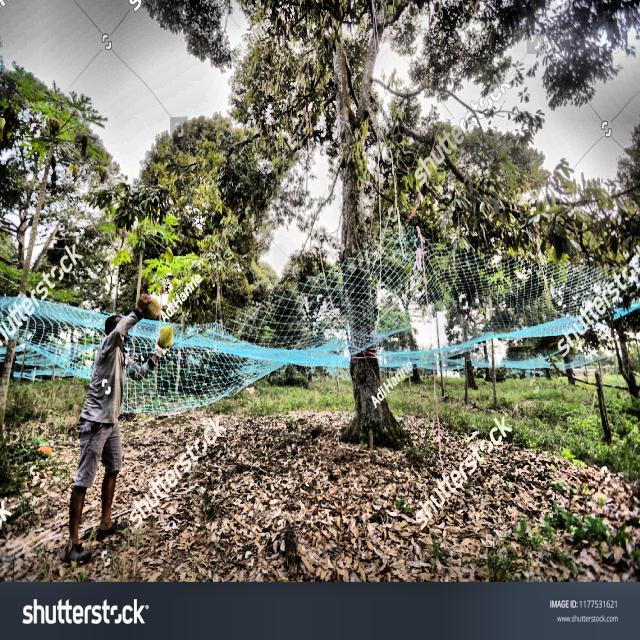arvore: (320, 0, 407, 445), (0, 127, 64, 425), (454, 281, 481, 401)
